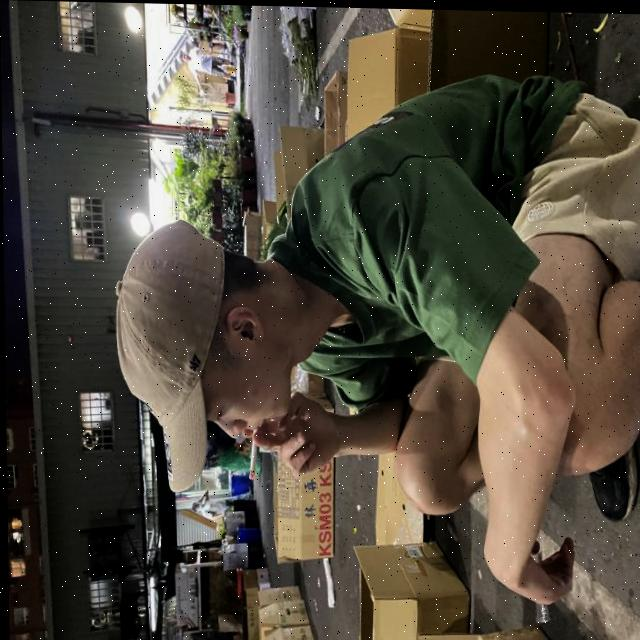cigarette: (247, 425, 259, 479)
